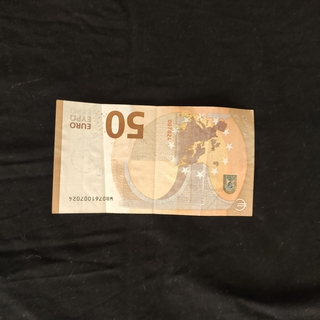50EUROBack: (50, 97, 256, 218)
